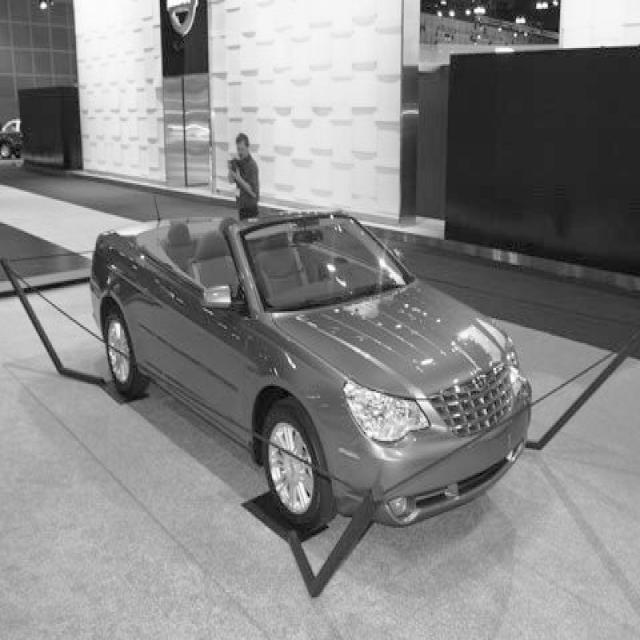car: (88, 204, 532, 534)
